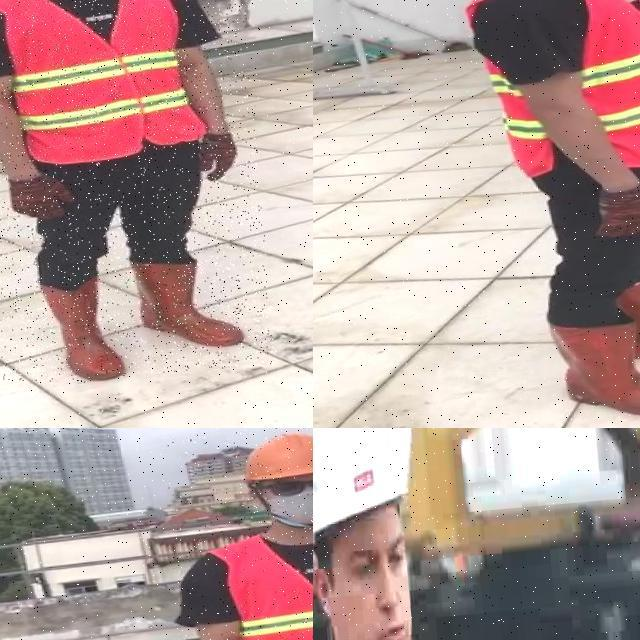boots: (129, 250, 247, 355), (548, 307, 640, 428), (38, 278, 128, 386)
helmet: (313, 428, 412, 544), (237, 428, 313, 485)
vest: (0, 0, 203, 167), (454, 0, 640, 180), (217, 518, 313, 640)
